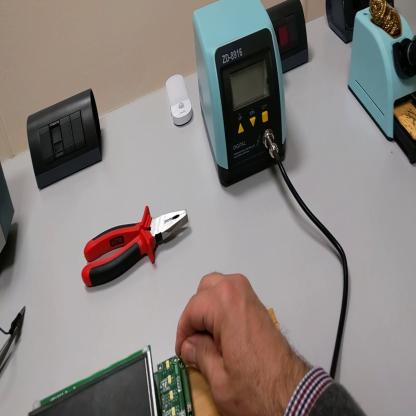hand: (175, 271, 292, 407)
low voltage board: (28, 346, 195, 416)
oscilloscope: (1, 163, 17, 260)
oscilloscope probe tip: (2, 324, 21, 367)
pliers: (81, 197, 191, 289)
socket: (266, 2, 312, 76), (326, 1, 397, 42)
welder base: (347, 2, 416, 169)
welder station: (193, 1, 288, 190)
working area: (186, 308, 279, 415)
